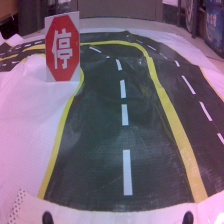stop: (45, 9, 81, 84)
